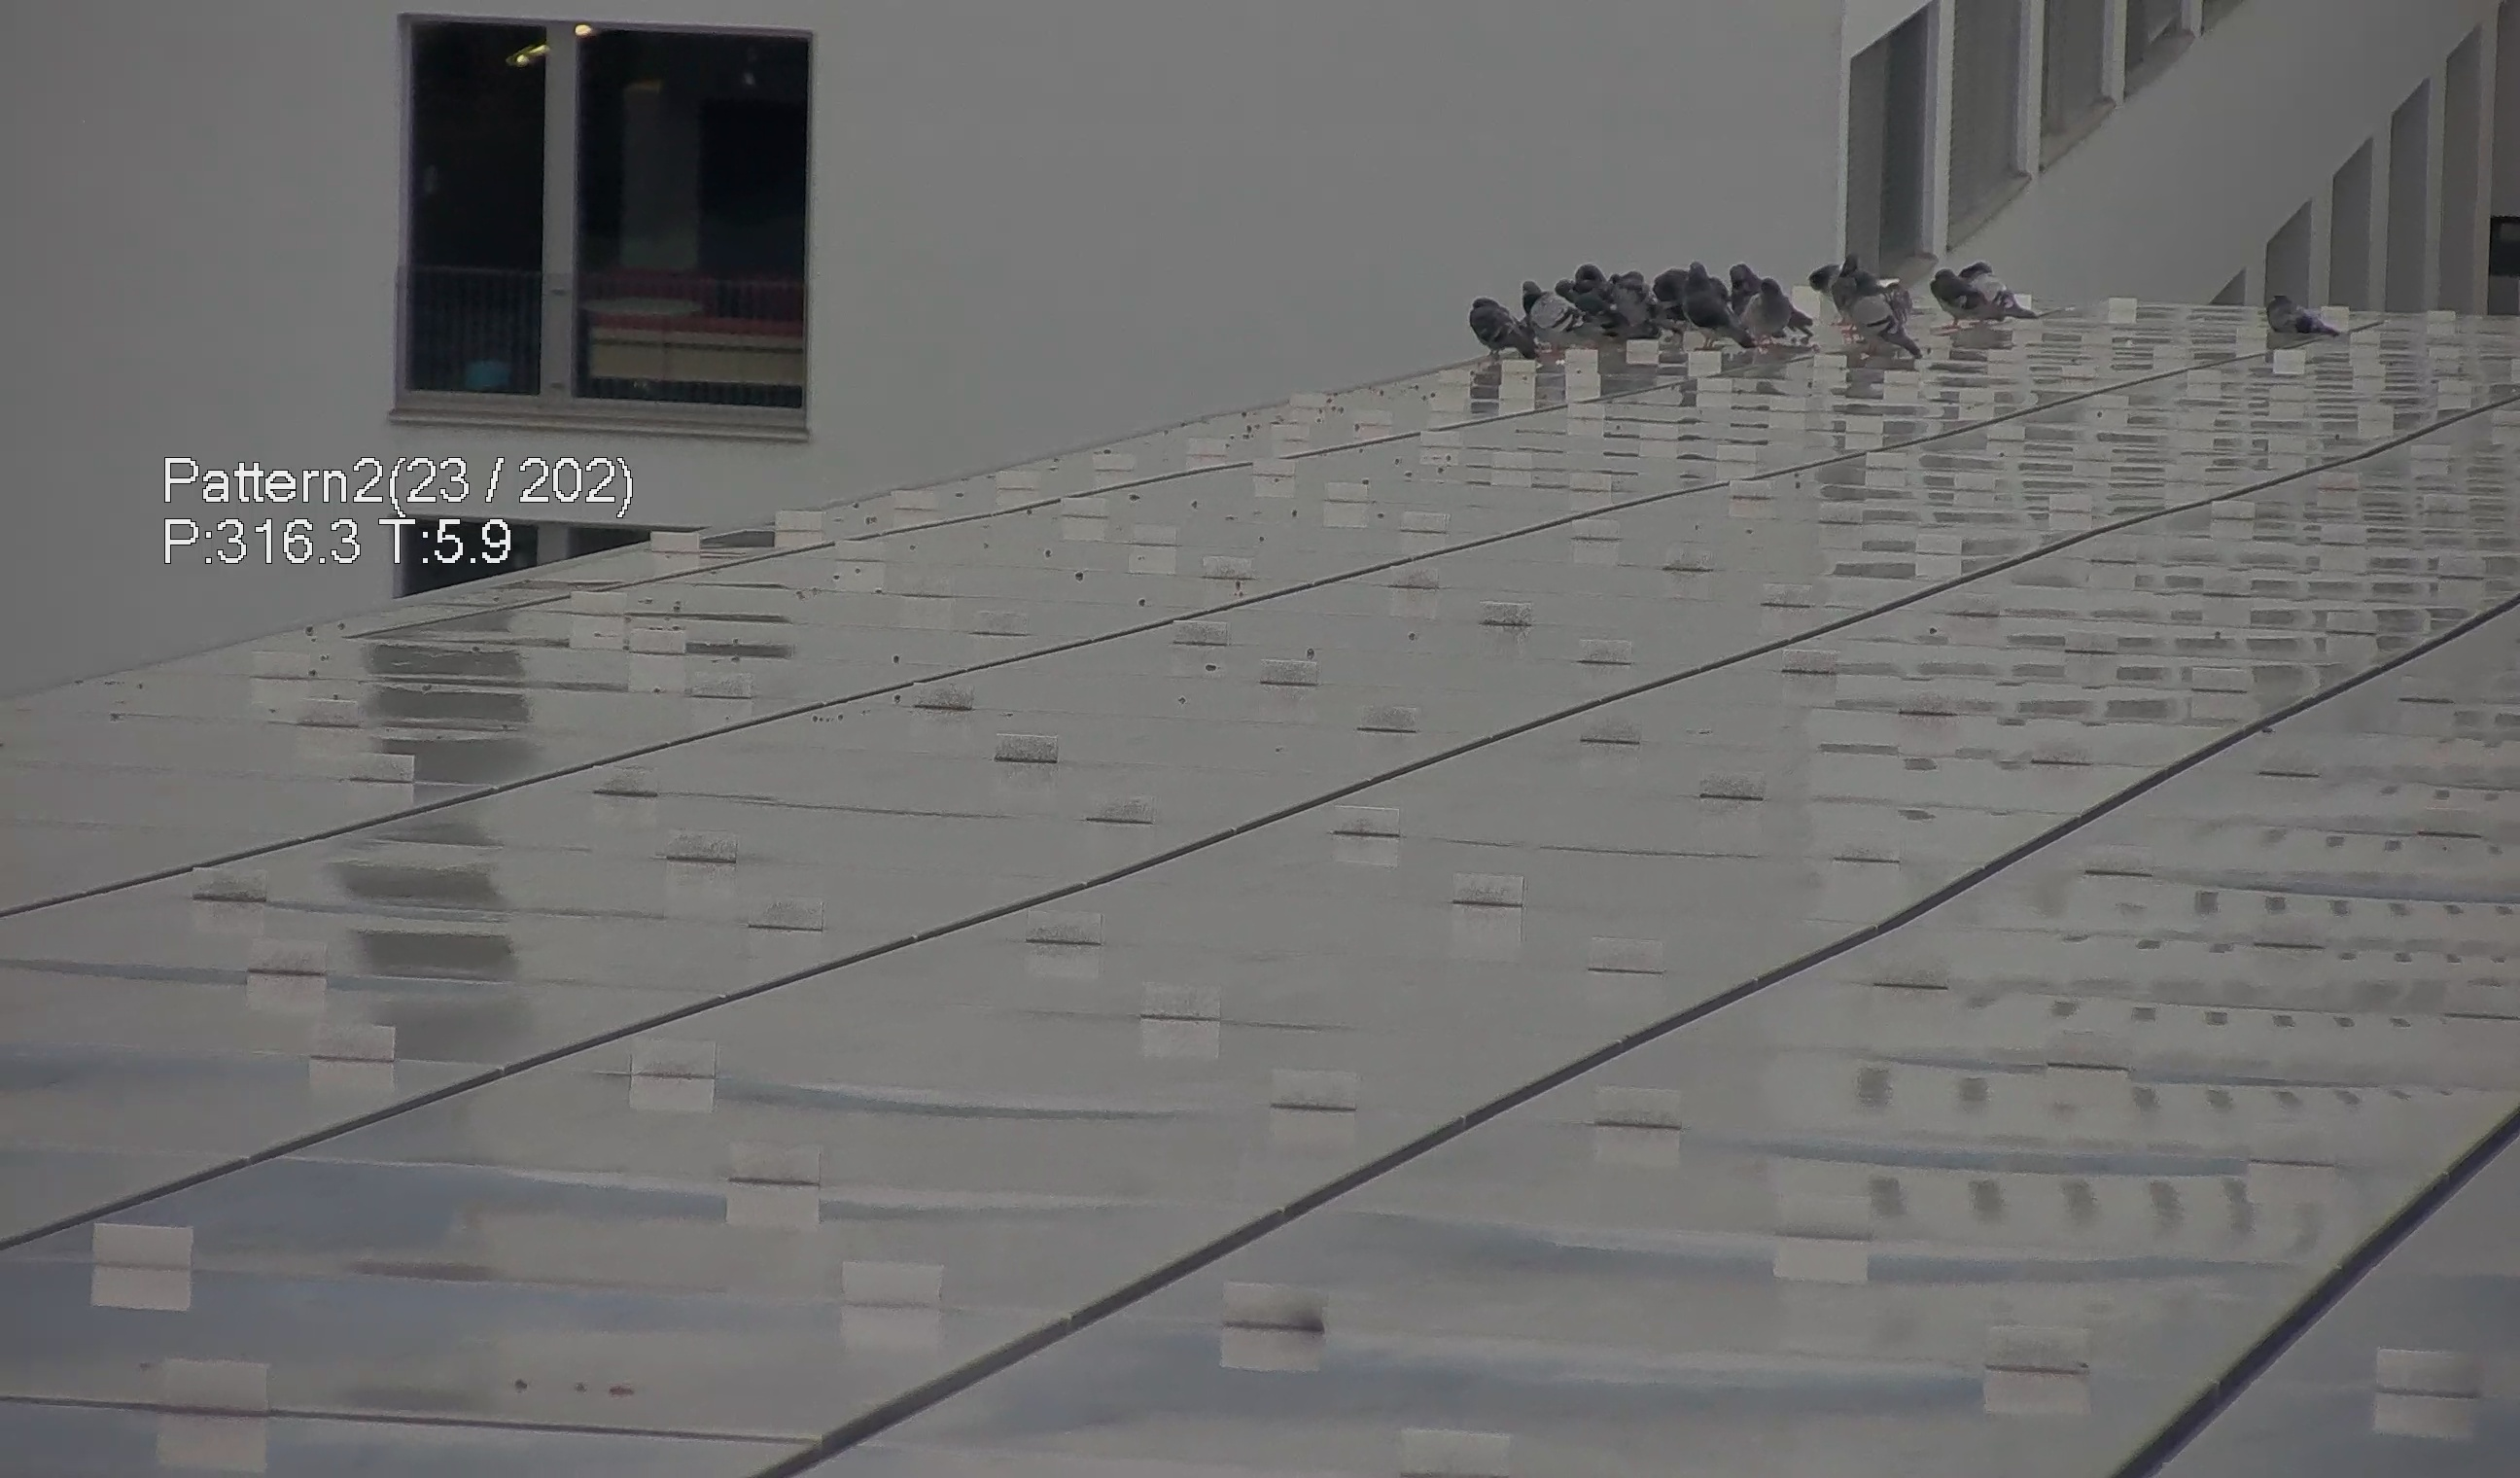Pigeon: (1843, 273, 1927, 377), (1927, 252, 2049, 322), (1518, 269, 1604, 352), (1681, 253, 1746, 355), (1959, 253, 2036, 329), (1458, 290, 1537, 355), (2267, 289, 2344, 348), (1746, 276, 1799, 348), (1562, 257, 1613, 320), (1723, 253, 1762, 306), (1808, 253, 1852, 292)
